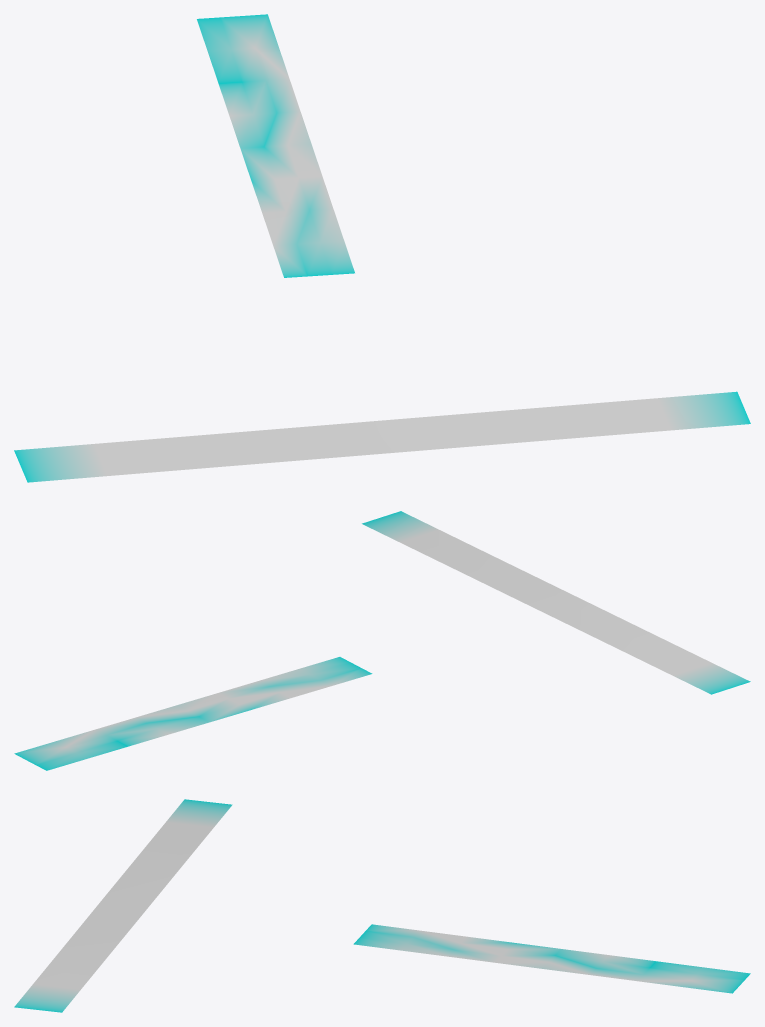
The picture shows the model from 3 angles, top to bottom: view 1: azimuth 30°, elevation 25°; view 2: azimuth 150°, elevation 25°; view 3: azimuth 270°, elevation 25°; orthographic projection. The views are drawn at different scales.
Visible parts, largest first — view 1: SpaceCenter_Long3_GenerateRoad_Asphalt_PCGMesh_Decal_Mesh_x9; view 2: SpaceCenter_Long3_GenerateRoad_Asphalt_PCGMesh_Decal_Mesh_x9; view 3: SpaceCenter_Long3_GenerateRoad_Asphalt_PCGMesh_Decal_Mesh_x9.
Part boxes in pixels (x1,y1,x2,y2): SpaceCenter_Long3_GenerateRoad_Asphalt_PCGMesh_Decal_Mesh_x9: (14, 14, 750, 482); SpaceCenter_Long3_GenerateRoad_Asphalt_PCGMesh_Decal_Mesh_x9: (14, 511, 750, 770); SpaceCenter_Long3_GenerateRoad_Asphalt_PCGMesh_Decal_Mesh_x9: (14, 799, 750, 1012).
Size of the model in its own units: 521 by 362 by 17.47.
